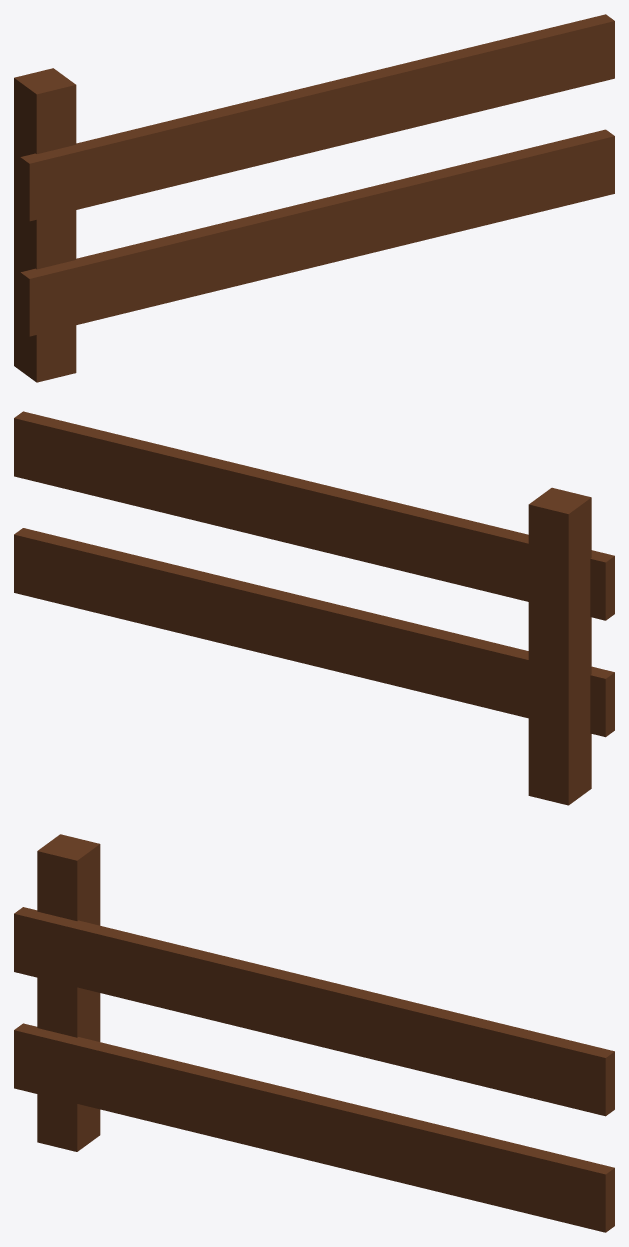
Rendered from Fence_3.fbx.
The picture shows the model from 3 angles, top to bottom: view 1: azimuth 30°, elevation 25°; view 2: azimuth 150°, elevation 25°; view 3: azimuth 330°, elevation 25°; orthographic projection.
Visible parts, largest first — view 1: Fence_3; view 2: Fence_3; view 3: Fence_3.
Boxes of the visible parts, x1,y1,x2,y2 form: Fence_3: [14, 14, 614, 382]; Fence_3: [14, 411, 614, 805]; Fence_3: [14, 834, 614, 1232].
Size of the model in its own units: 227 by 107 by 20.6.
